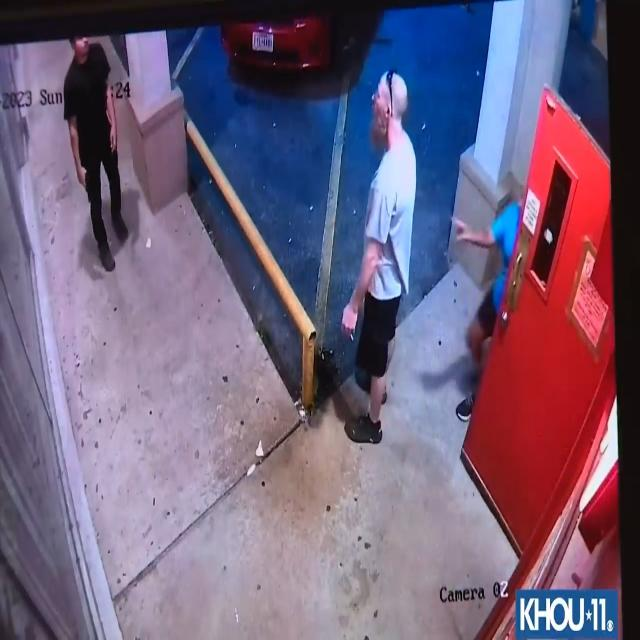Gun_Holder: (74, 164, 98, 214)
Person: (341, 58, 422, 448), (446, 177, 532, 422), (62, 36, 130, 268)
